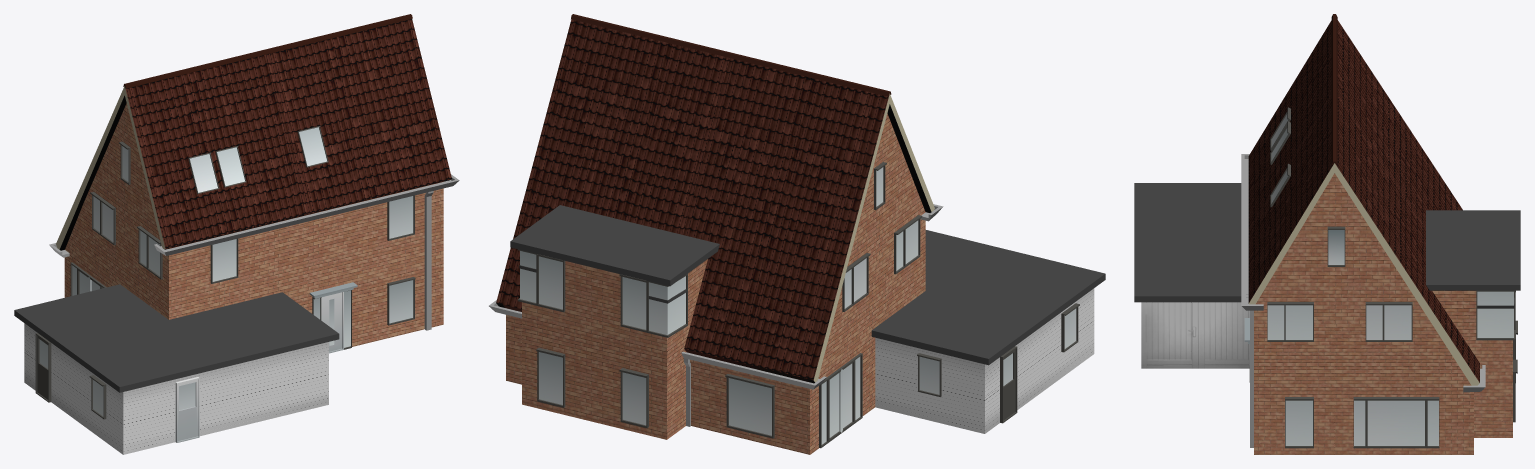
Rendered from Greide 7.fbx.
3 renders of one model, left to right at view 1: azimuth 30°, elevation 25°; view 2: azimuth 150°, elevation 25°; view 3: azimuth 270°, elevation 25°, orthographic. The views are drawn at different scales.
Visible parts, largest first — view 1: Greide_7; view 2: Greide_7; view 3: Greide_7.
Boxes of the visible parts, <box> form: Greide_7: <box>14,14,459,454</box>; Greide_7: <box>489,14,1105,454</box>; Greide_7: <box>1134,14,1520,454</box>.
Size of the model in its own units: 1632 by 1121 by 1324.
